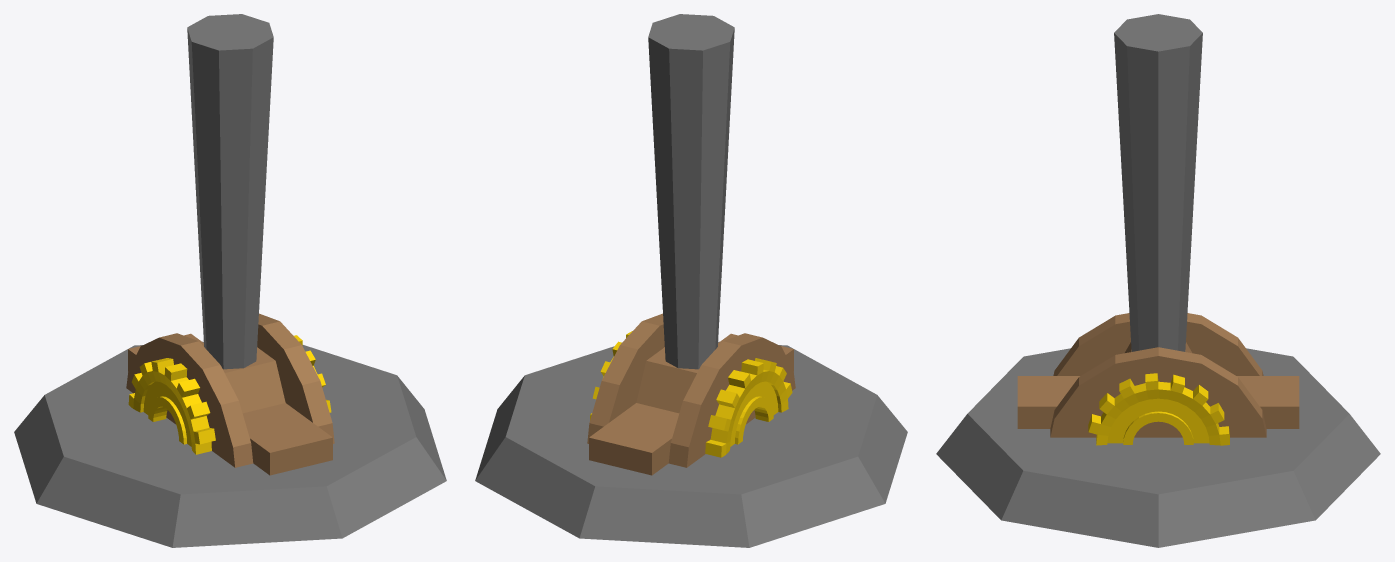
Rendered from lever.fbx.
The picture shows the model from 3 angles, left to right: view 1: azimuth 30°, elevation 25°; view 2: azimuth 150°, elevation 25°; view 3: azimuth 270°, elevation 25°; orthographic projection.
Parts seen in each view (by area): view 1: Base, Lever; view 2: Base, Lever; view 3: Base, Lever.
Part boxes in pixels (x1,y1,x2,y2): Base: (14,313,446,547); Lever: (187,14,273,369); Base: (475,313,907,547); Lever: (648,14,734,369); Base: (936,313,1380,547); Lever: (1114,14,1202,351).
Bounding box in the file's own units: 200 × 209 × 200.
